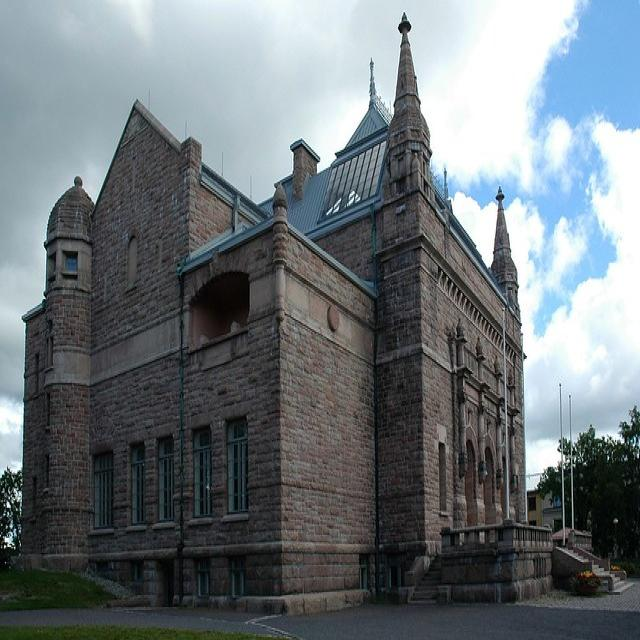building: (19, 11, 560, 614)
